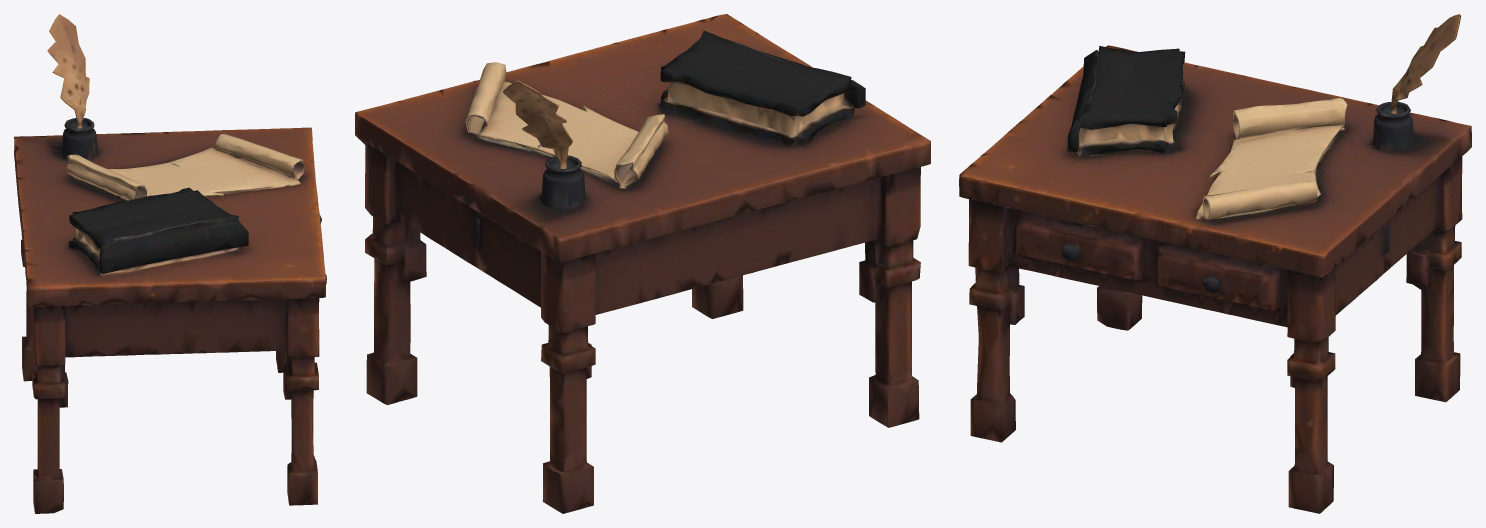
Rendered from desk.glb.
The picture shows the model from 3 angles, left to right: view 1: azimuth 30°, elevation 25°; view 2: azimuth 150°, elevation 25°; view 3: azimuth 270°, elevation 25°; orthographic projection. The views are drawn at different scales.
Visible parts, largest first — view 1: tripo_node_652e4cd7-64ac-47d6-9079-bfa37aad5161; view 2: tripo_node_652e4cd7-64ac-47d6-9079-bfa37aad5161; view 3: tripo_node_652e4cd7-64ac-47d6-9079-bfa37aad5161.
Boxes of the visible parts, bbox=[...] form: tripo_node_652e4cd7-64ac-47d6-9079-bfa37aad5161: bbox=[14, 14, 326, 513]; tripo_node_652e4cd7-64ac-47d6-9079-bfa37aad5161: bbox=[355, 14, 930, 513]; tripo_node_652e4cd7-64ac-47d6-9079-bfa37aad5161: bbox=[959, 14, 1471, 513].
Bounding box in the file's own units: 0.9735 × 0.8531 × 1.
Materials: 1 (1 with a texture image).
